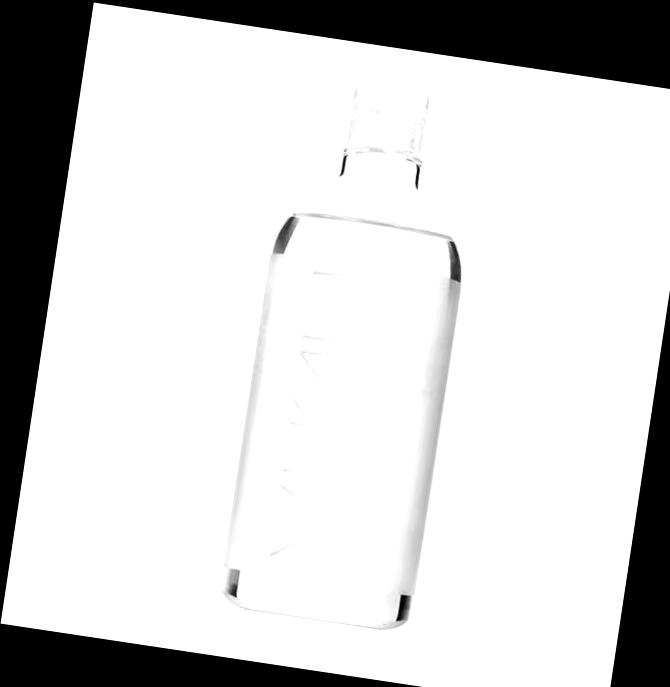cosmetic: (216, 69, 487, 630)
